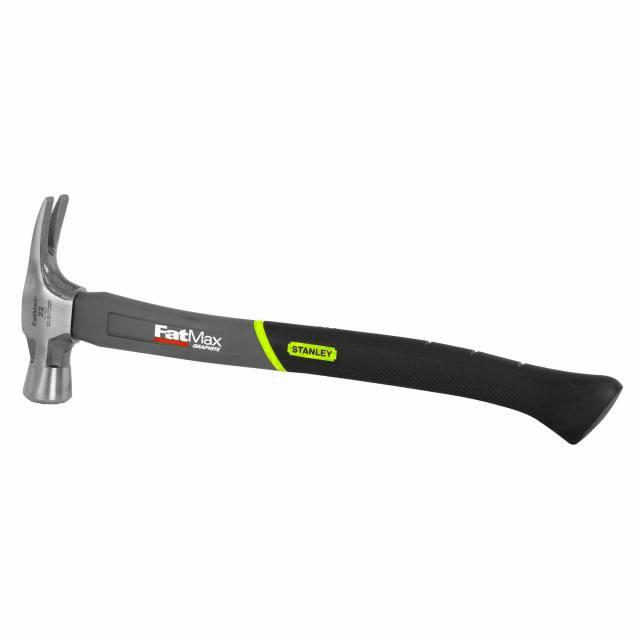hammer: (14, 168, 629, 448)
